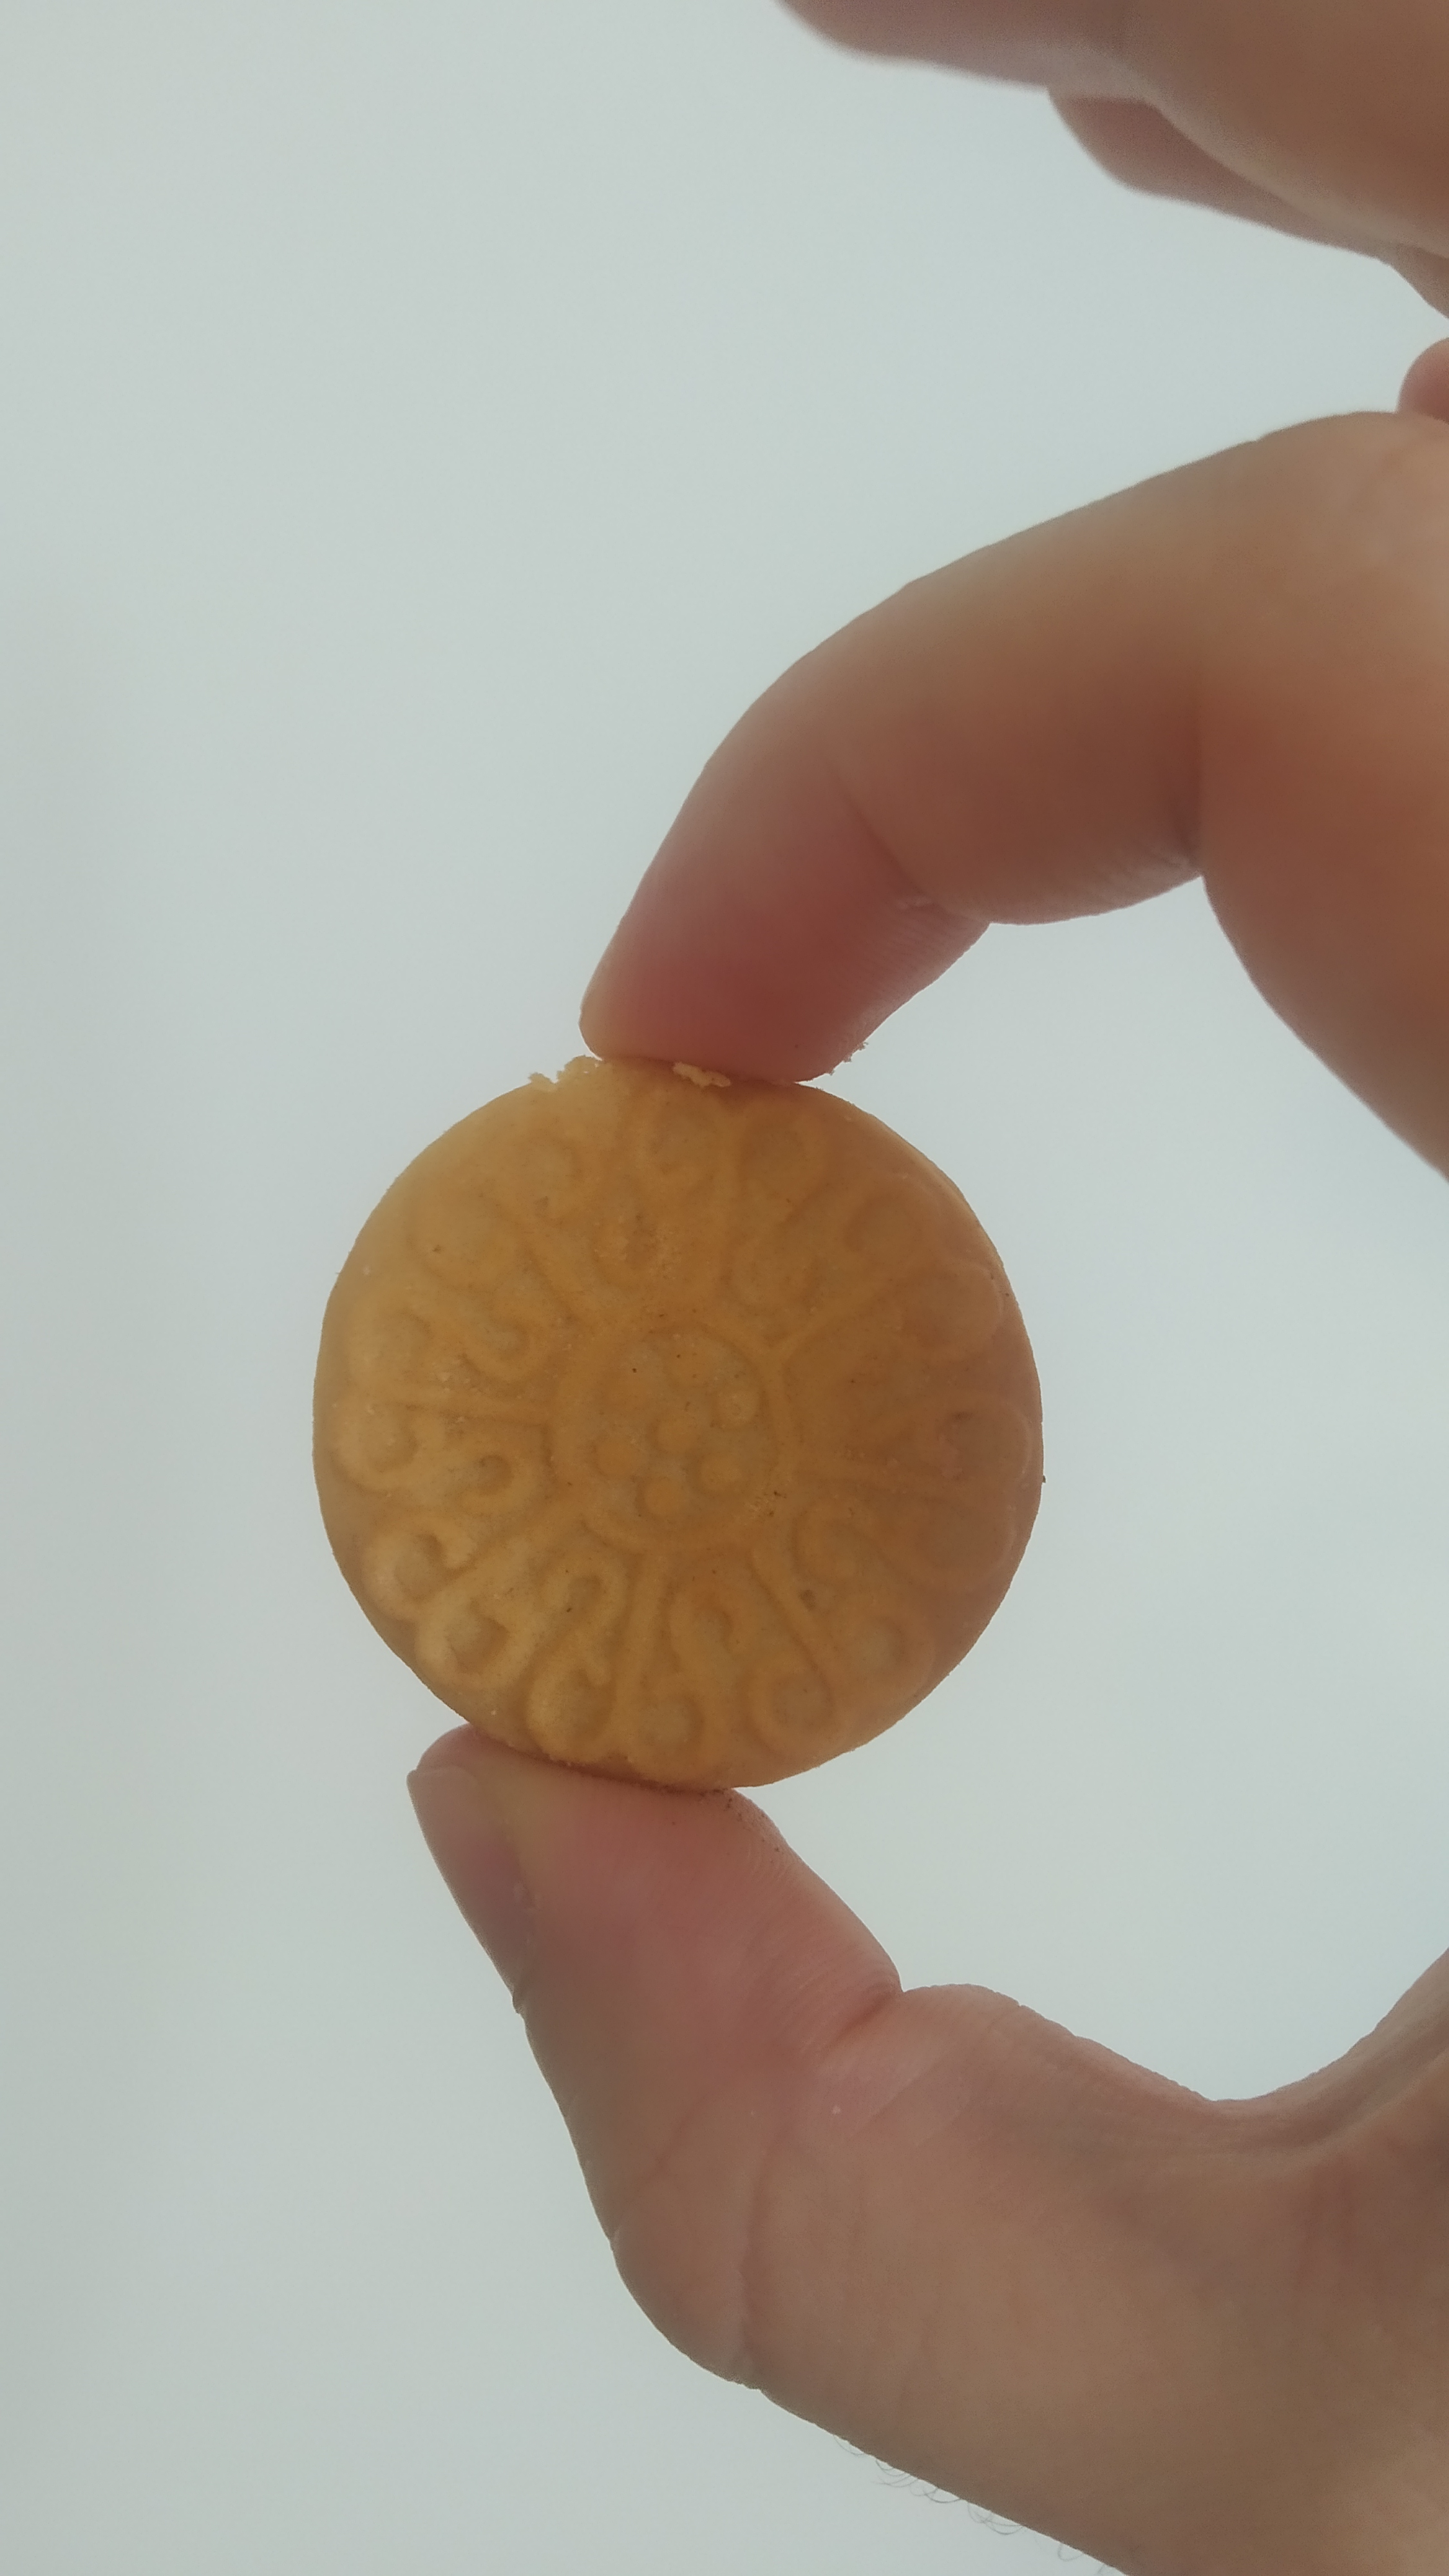lulu: (313, 1054, 1049, 1792)
